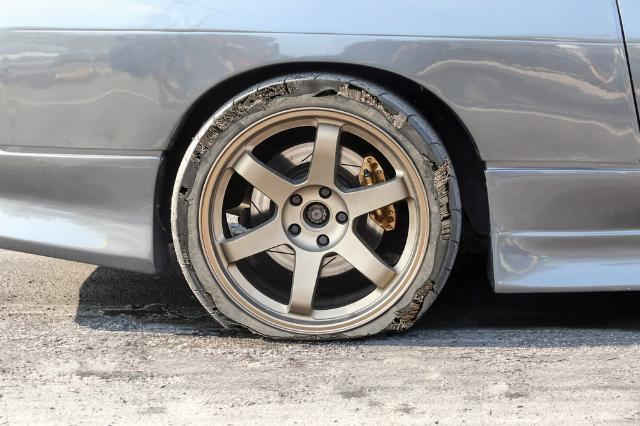tire flat: (170, 72, 462, 341)
